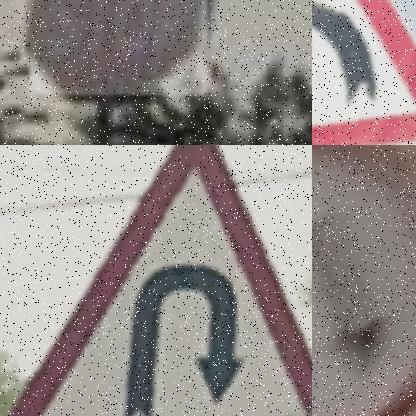Left bend: (312, 0, 416, 145)
Road Divides: (312, 145, 416, 416)
Stop 2: (29, 0, 206, 95)
U-Turn: (13, 145, 312, 416)
